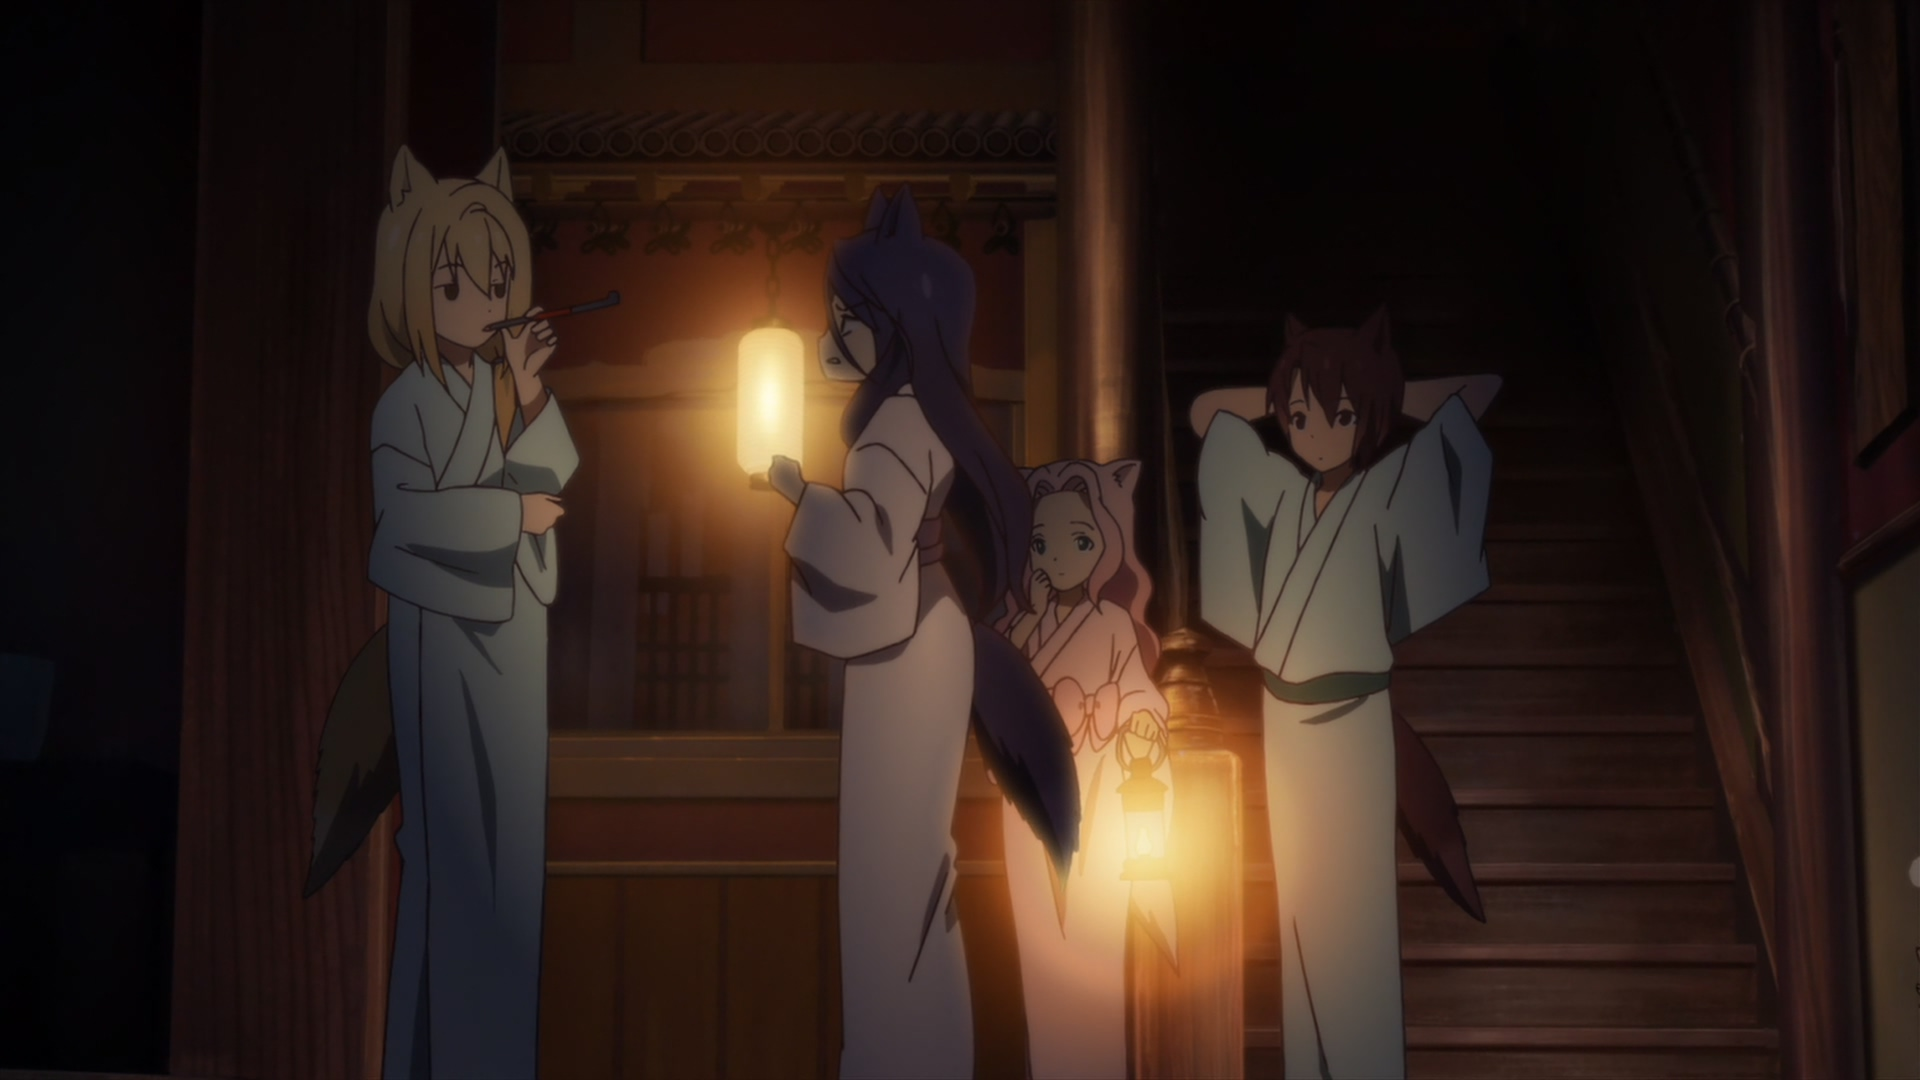枣: (1188, 307, 1509, 1080)
桐: (305, 145, 582, 1080)
皋: (769, 179, 1083, 1080)
莲: (993, 458, 1171, 1080)
